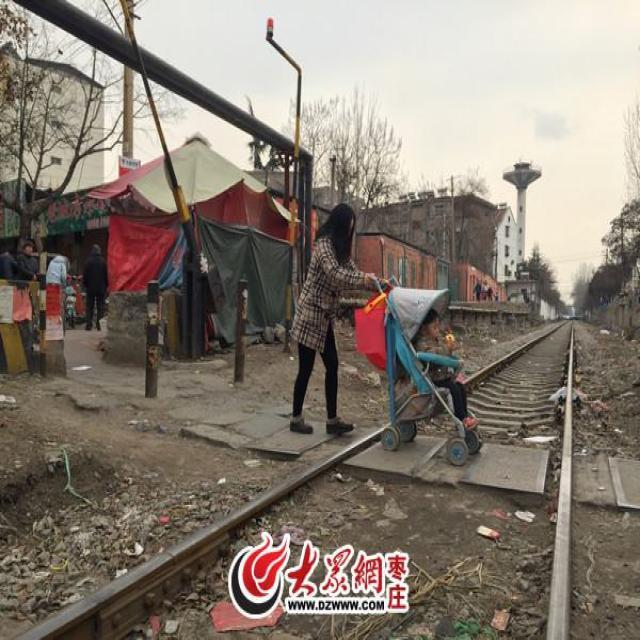Other_objects: (349, 285, 481, 461)
people: (300, 192, 361, 440), (413, 307, 484, 430)
